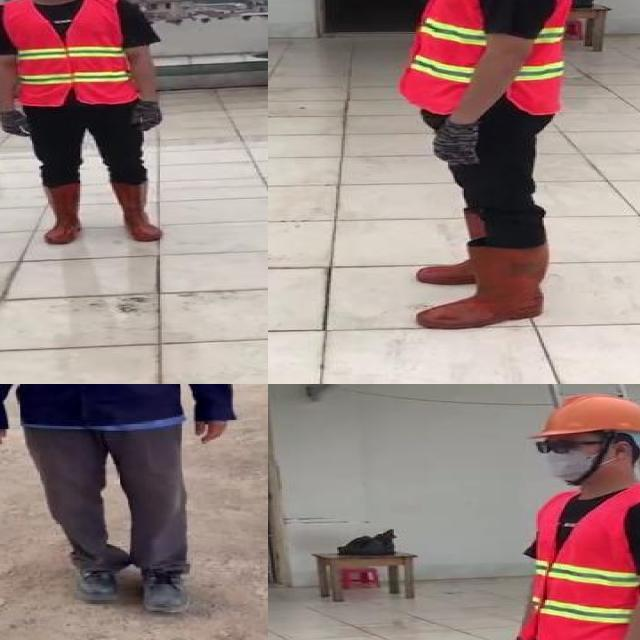boots: (413, 246, 547, 330), (108, 180, 166, 241), (39, 183, 85, 245)
face_mask: (531, 436, 604, 482)
glasses: (528, 437, 598, 458)
hand_glove: (426, 118, 486, 165), (132, 103, 166, 132), (0, 111, 34, 138)
hand_noglove: (189, 412, 234, 443), (0, 420, 14, 449)
head_helmet: (535, 392, 640, 440)
person: (380, 0, 583, 338), (0, 384, 239, 631), (0, 0, 175, 249), (493, 388, 640, 640)
shoes: (62, 548, 128, 608), (134, 561, 195, 620)
vest: (403, 0, 574, 115), (522, 489, 640, 640), (0, 0, 137, 107)
